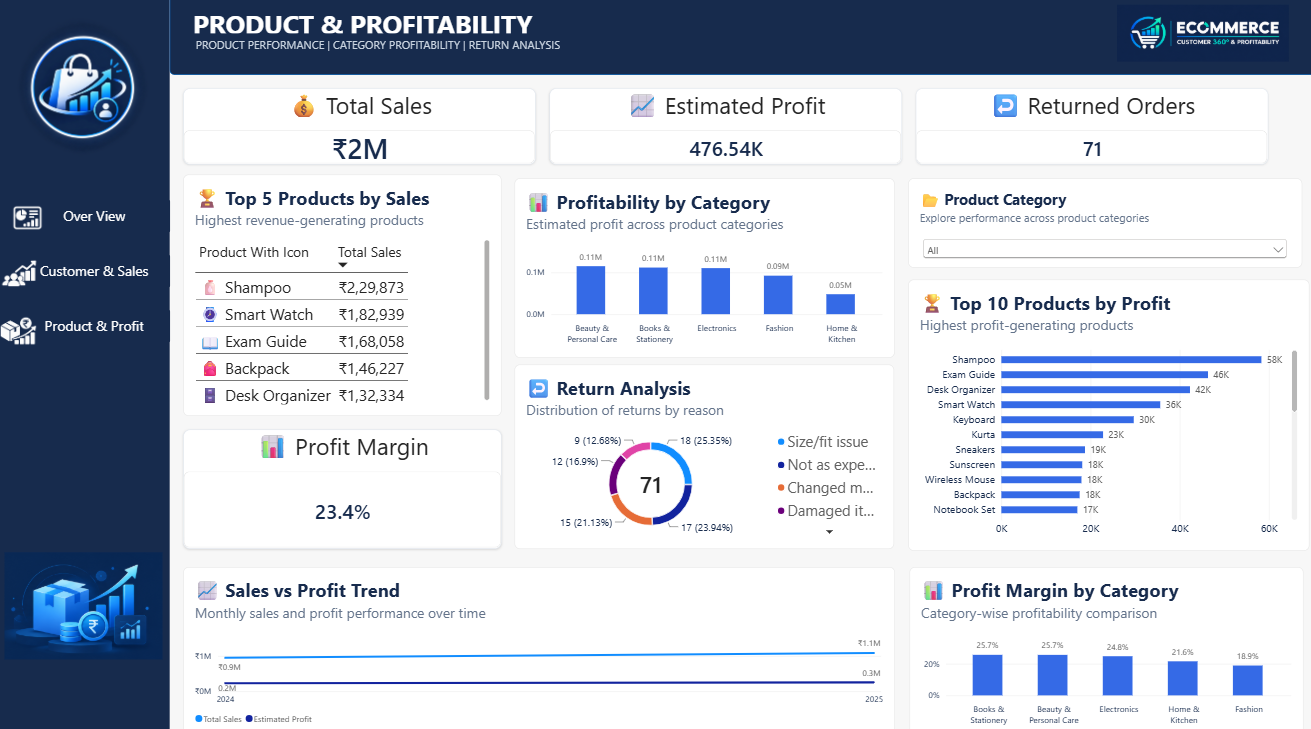

The page's visual inventory and layout, read from the dashboard file:
{"tool":"powerbi","page":{"name":"Product & Profitability","canvas":[1920,1080],"ordinal":2},"visuals":[{"type":"shape","box":[0,0,250,1080],"z":0},{"type":"actionButton","box":[30,300,220,48],"z":1000},{"type":"actionButton","box":[30,380,220,48],"z":2000},{"type":"actionButton","box":[30,460,220,48],"z":3000},{"type":"shape","box":[250,0,1670,120],"z":4000},{"type":"textbox","box":[285,20,1500,40],"z":6000},{"type":"textbox","box":[287,65,1500,25],"z":7000},{"type":"cardVisual","title":"📈 Estimated Profit","fields":{"Data":["customers.Estimated Profit"]},"box":[800,140,510,110],"z":8000},{"type":"cardVisual","title":"💰 Total Sales","fields":{"Data":["customers.Total Sales"]},"box":[270,140,510,110],"z":9000},{"type":"cardVisual","title":"↩️ Returned Orders","fields":{"Data":["returns.Total Returned Orders"]},"box":[1330,140,510,110],"z":10000},{"type":"tableEx","title":"🏆 Top 5 Products by Sales","fields":{"Values":["products.Product With Icon","customers.Total Sales"]},"box":[269.6,263.5,461.1,349.9],"z":11000},{"type":"clusteredColumnChart","title":"📊 Profitability by Category","fields":{"Category":["products.category"],"Y":["customers.Estimated Profit"]},"box":[750,270,550,260],"z":12000},{"type":"donutChart","title":"↩️ Return Analysis","fields":{"Category":["returns.return_reason"],"Y":["returns.Returned Orders"]},"box":[749.2,539.3,549.6,267.6],"z":13000},{"type":"slicer","title":"📂 Product Category","fields":{"Values":["products.category"]},"box":[1319.4,269.6,570.2,129.7],"z":14000},{"type":"clusteredBarChart","title":"🏆 Top 10 Products by Profit","fields":{"Category":["products.Product Name"],"Y":["customers.Estimated Profit"]},"box":[1319.4,415.8,580.4,393.1],"z":15000},{"type":"lineChart","title":"📈 Sales vs Profit Trend","fields":{"Category":["orders.order_date.Variation.Date Hierarchy.Year","orders.order_date.Variation.Date Hierarchy.Month"],"Y":["customers.Total Sales","customers.Estimated Profit"]},"box":[269.6,831.6,1030,250],"z":16000},{"type":"clusteredColumnChart","title":"📊 Profit Margin by Category","fields":{"Category":["products.category"],"Y":["products.Profit Margin %"]},"box":[1321.4,831.6,570.2,249.1],"z":17000},{"type":"cardVisual","title":"📊 Profit Margin","fields":{"Data":["products.Profit Margin %"]},"box":[269,633,461.1,172.9],"z":18000},{"type":"image","box":[1622,0,249.1,119.4],"z":18001},{"type":"image","box":[0,26.8,249.1,226.4],"z":18002},{"type":"image","box":[10.3,738.9,228.5,300.5],"z":18003},{"type":"image","box":[1.8,300.4,85.1,48.9],"z":18004},{"type":"image","box":[1.8,407.2,57.9,164.7],"z":18005},{"type":"image","box":[0,381.8,59.7,48.9],"z":18006}]}

Visuals, with their boxes on the page's 1920x1080 design canvas (x1, y1, x2, y2). These are canvas units, not pixel positions in the 1311x729 screenshot, which may show the page scaled, cropped or inside an application window:
shape: 0/0/250/1080
actionButton: 30/300/250/348
actionButton: 30/380/250/428
actionButton: 30/460/250/508
shape: 250/0/1920/120
textbox: 285/20/1785/60
textbox: 287/65/1787/90
"📈 Estimated Profit" cardVisual: 800/140/1310/250
"💰 Total Sales" cardVisual: 270/140/780/250
"↩️ Returned Orders" cardVisual: 1330/140/1840/250
"🏆 Top 5 Products by Sales" tableEx: 270/264/731/613
"📊 Profitability by Category" clusteredColumnChart: 750/270/1300/530
"↩️ Return Analysis" donutChart: 749/539/1299/807
"📂 Product Category" slicer: 1319/270/1890/399
"🏆 Top 10 Products by Profit" clusteredBarChart: 1319/416/1900/809
"📈 Sales vs Profit Trend" lineChart: 270/832/1300/1082
"📊 Profit Margin by Category" clusteredColumnChart: 1321/832/1892/1081
"📊 Profit Margin" cardVisual: 269/633/730/806
image: 1622/0/1871/119
image: 0/27/249/253
image: 10/739/239/1039
image: 2/300/87/349
image: 2/407/60/572
image: 0/382/60/431
